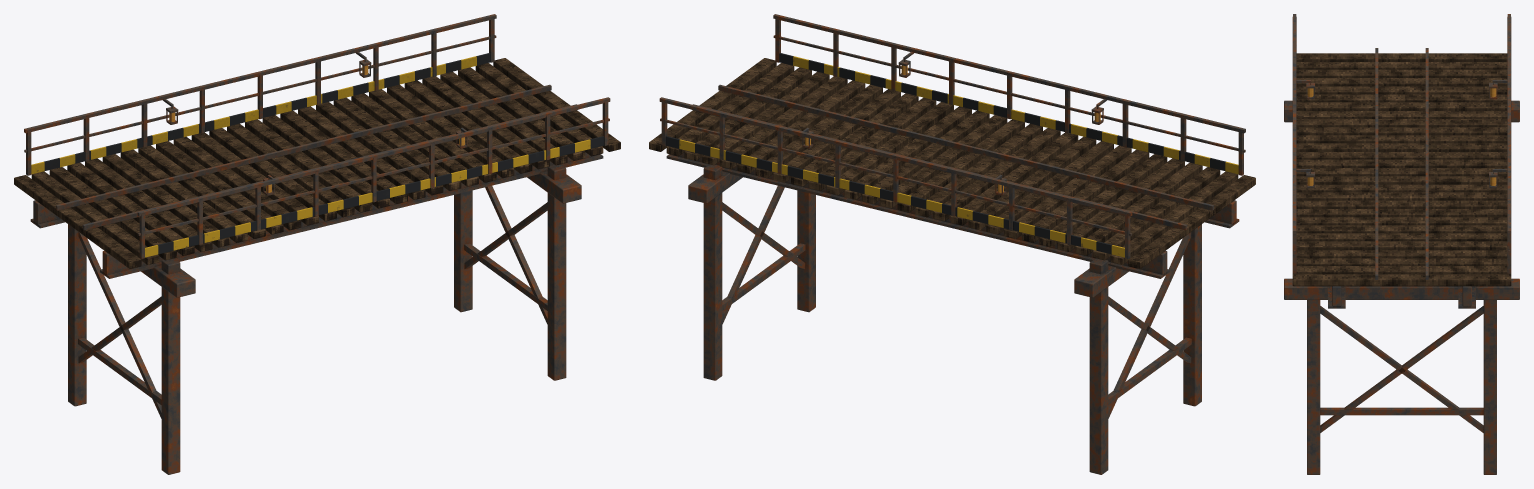
The model's file is mine_trestle.glb.
3 renders of one model, left to right at view 1: azimuth 30°, elevation 25°; view 2: azimuth 150°, elevation 25°; view 3: azimuth 270°, elevation 25°, orthographic. The views are drawn at different scales.
Visible parts, largest first — view 1: mine_trestle; view 2: mine_trestle; view 3: mine_trestle.
Boxes of the visible parts, x1=… form: mine_trestle: x1=14, y1=14, x2=620, y2=474; mine_trestle: x1=649, y1=14, x2=1255, y2=474; mine_trestle: x1=1284, y1=14, x2=1519, y2=474.
Bounding box in the file's own units: 12.8 × 6.84 × 5.6.
Materials: 5 (5 with a texture image).
